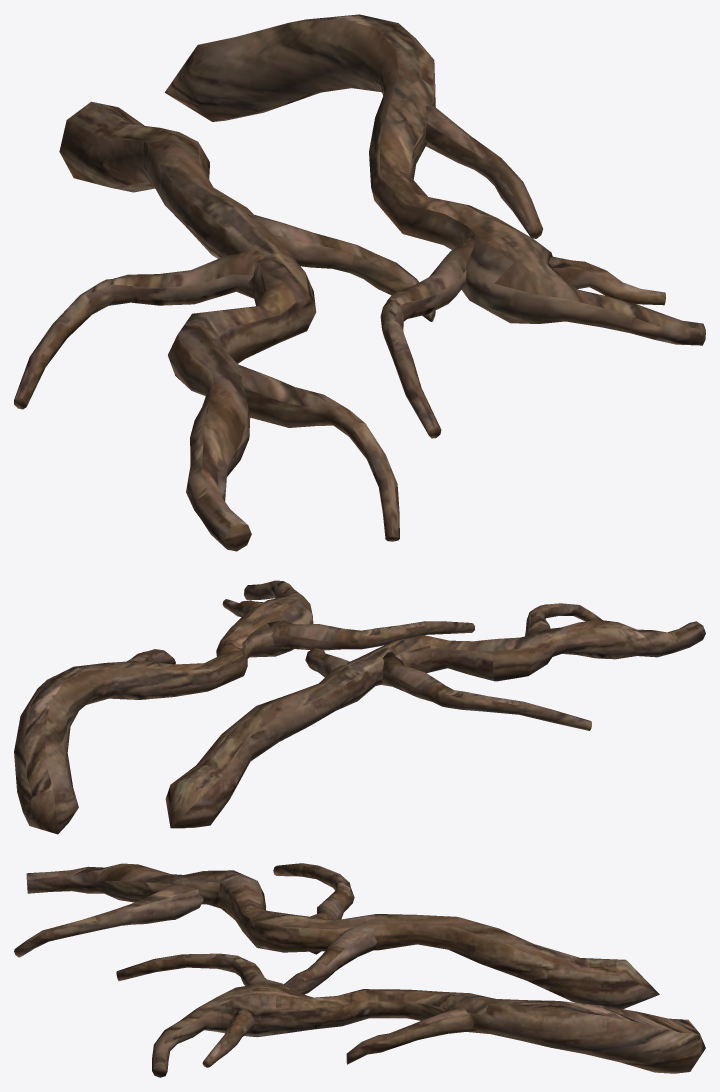
Rendered from TreeRoot1.fbx.
The picture shows the model from 3 angles, top to bottom: view 1: azimuth 30°, elevation 25°; view 2: azimuth 150°, elevation 25°; view 3: azimuth 270°, elevation 25°; orthographic projection. The views are drawn at different scales.
Parts seen in each view (by area): view 1: SM_cmn_mount_Root_01a; view 2: SM_cmn_mount_Root_01a; view 3: SM_cmn_mount_Root_01a.
Boxes of the visible parts, box(x1,y1,x2,y2) form: SM_cmn_mount_Root_01a: box(14, 14, 705, 551); SM_cmn_mount_Root_01a: box(14, 580, 705, 834); SM_cmn_mount_Root_01a: box(14, 863, 705, 1077).
Size of the model in its own units: 266 by 58.37 by 391.
